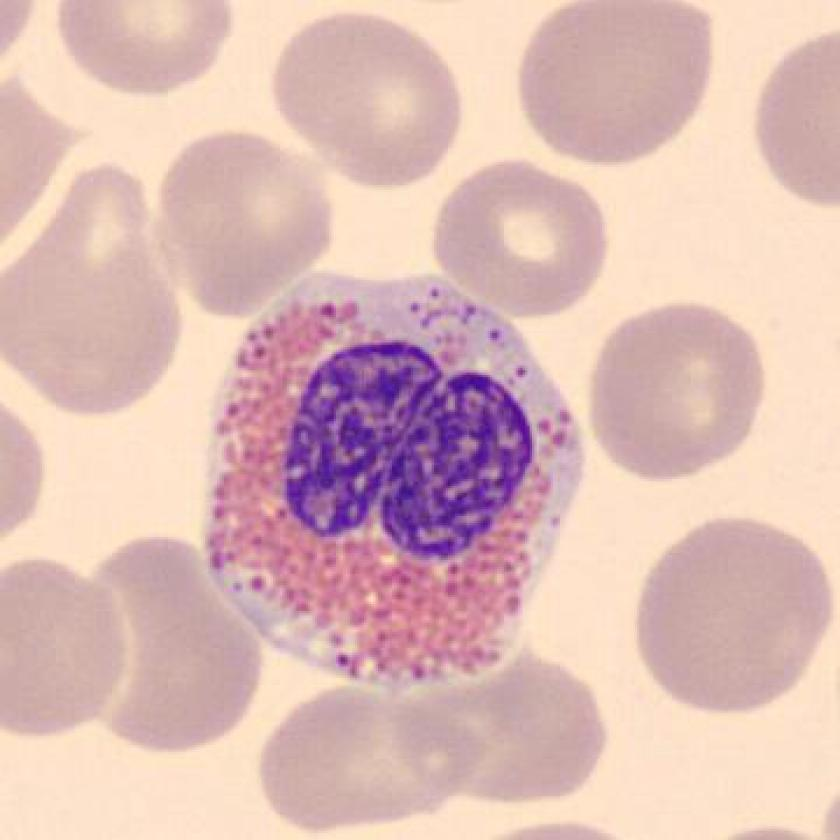eosinophil: (192, 263, 594, 695)
